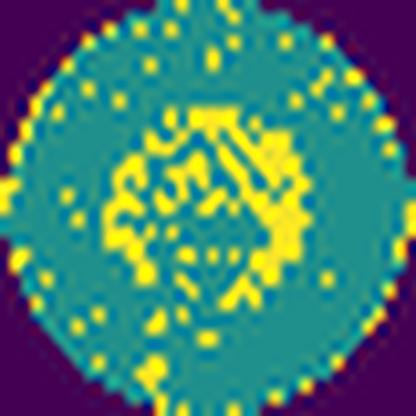Donut: (96, 101, 315, 326)
